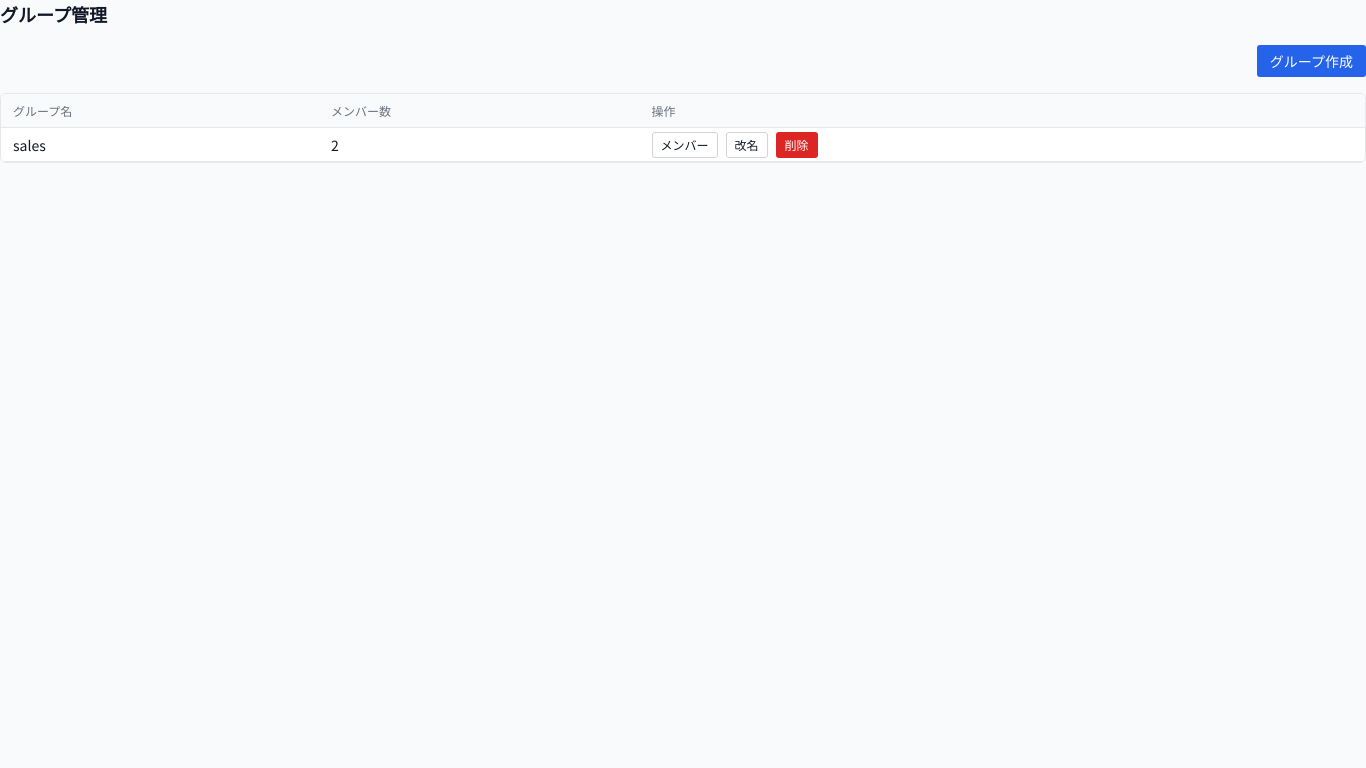
GroupListPage › 一覧を表示しグループ作成をPOSTする
This screenshot has width=1366, height=768.
Expected: the text "sales" is shown, [1,128,319,162]
Click the button "グループ作成" at (1311,61), box [1257,45,1365,77]
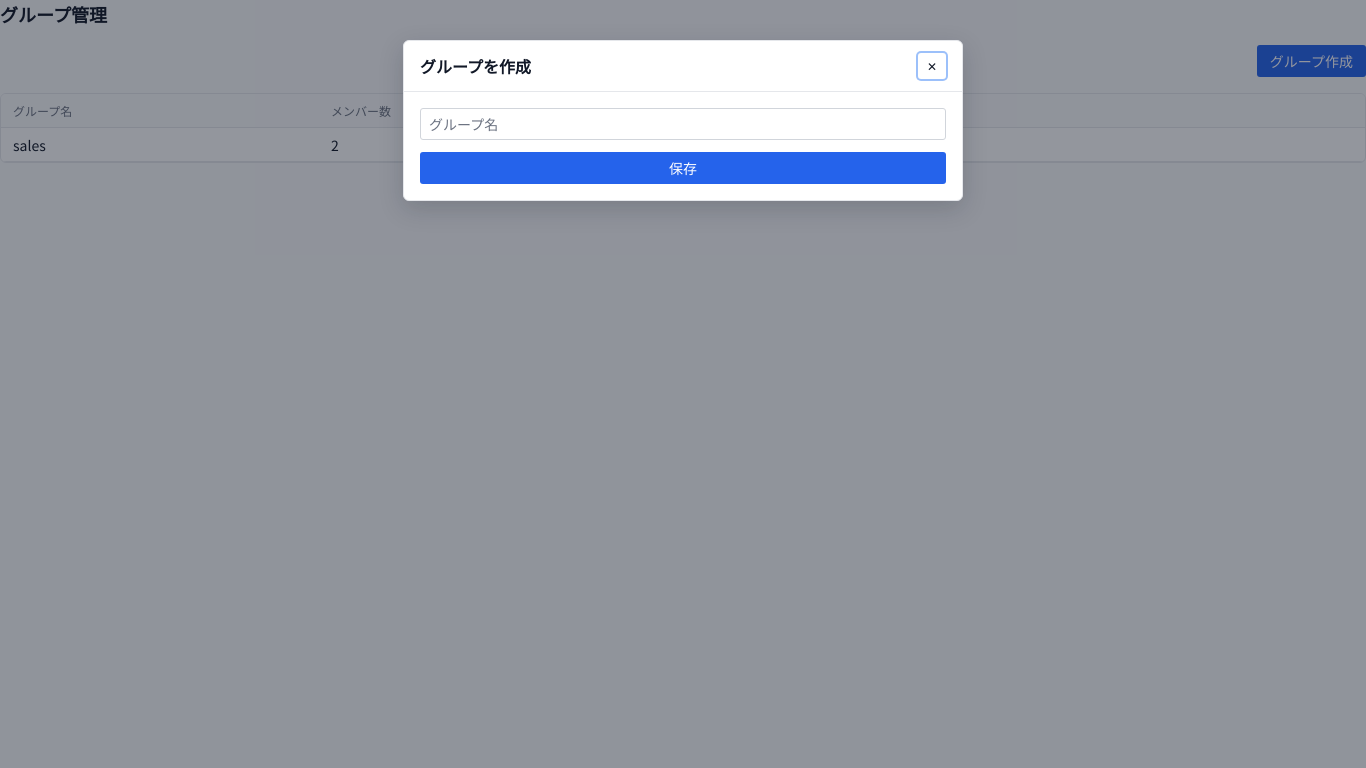
Type "dev" into the field with placeholder "グループ名" at (683,124), box [420,108,946,140]
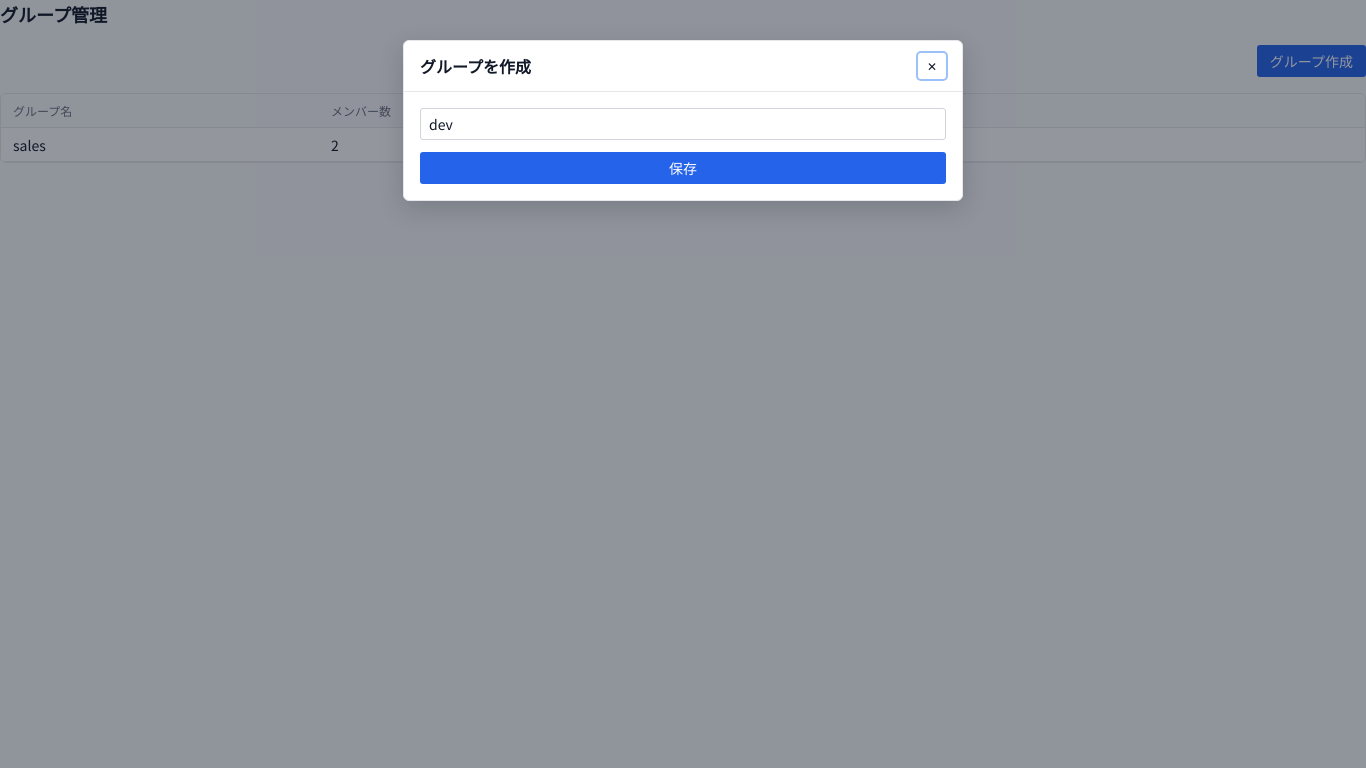
Click the button "保存" at (683,168), box [420,152,946,184]
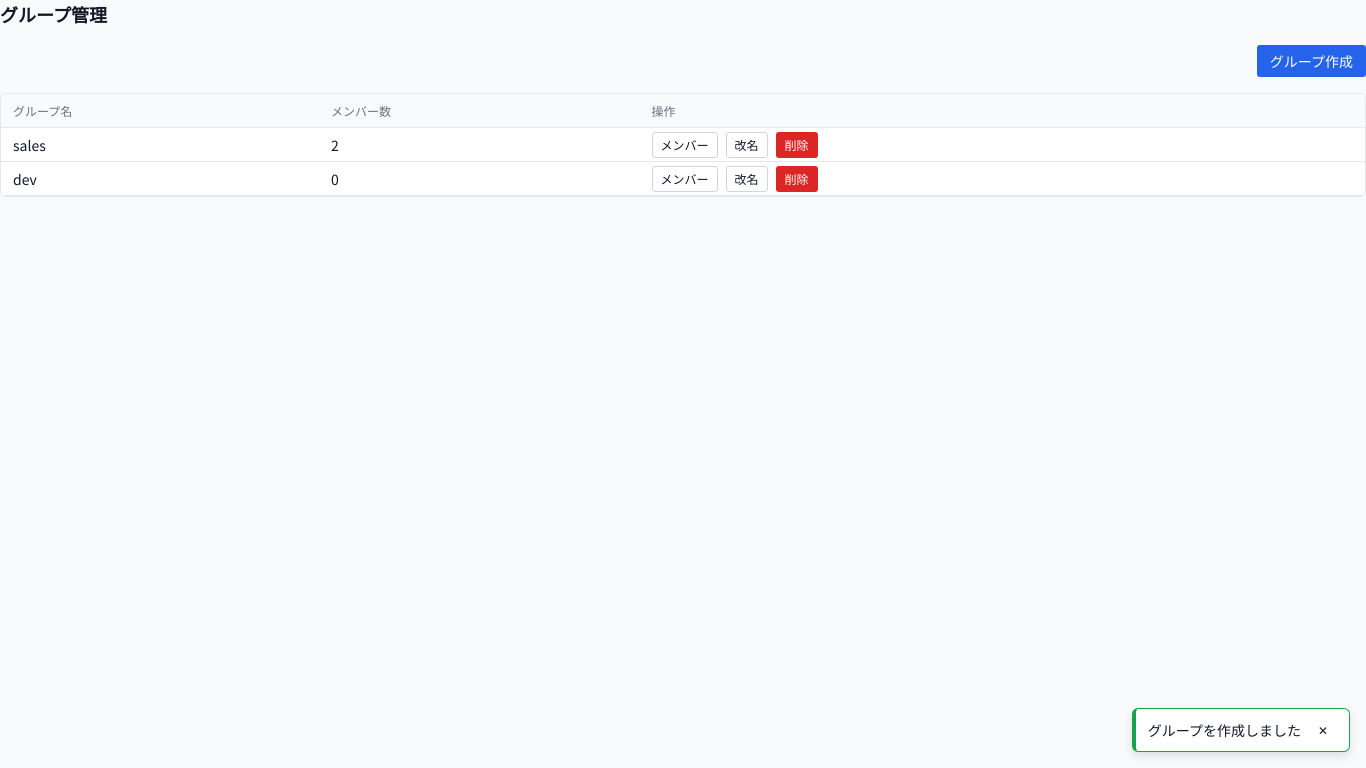
Result: the text "グループを作成しました" is shown at [1148,719,1301,741]
Result: the text "dev" is shown at [1,162,319,196]
